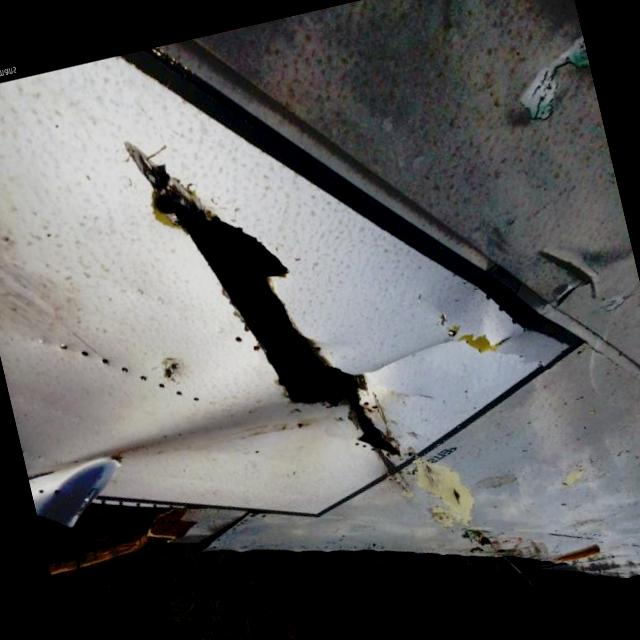crack: (132, 121, 406, 505), (452, 485, 464, 507)
